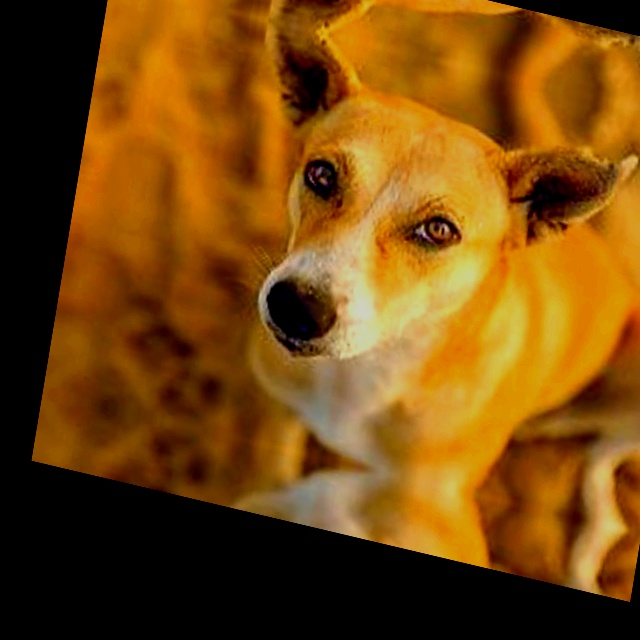dog: (206, 21, 640, 514), (192, 445, 623, 598), (272, 0, 640, 119)
